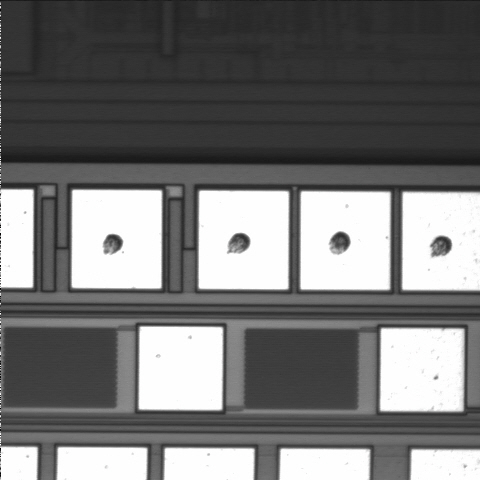pad: (72, 190, 162, 289), (300, 191, 390, 290), (199, 191, 289, 289), (139, 327, 223, 410), (380, 328, 464, 411)
